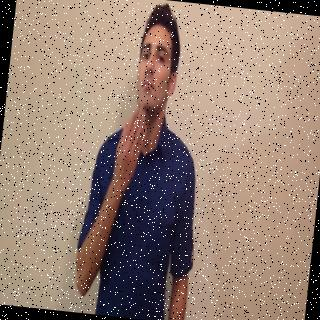ThankYou: (70, 0, 219, 320)
